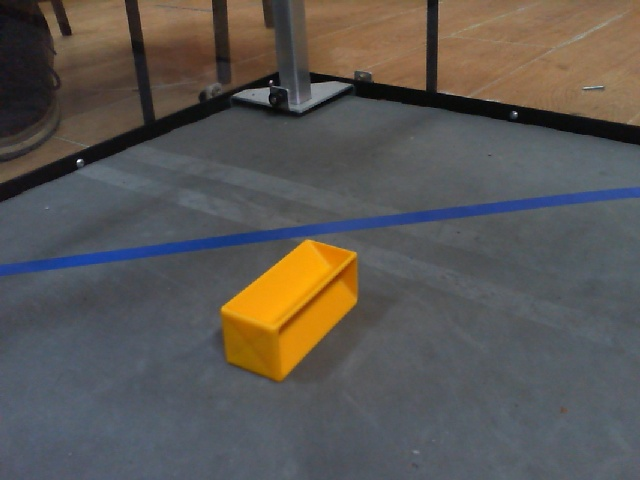YellowSample: (220, 239, 359, 382)
